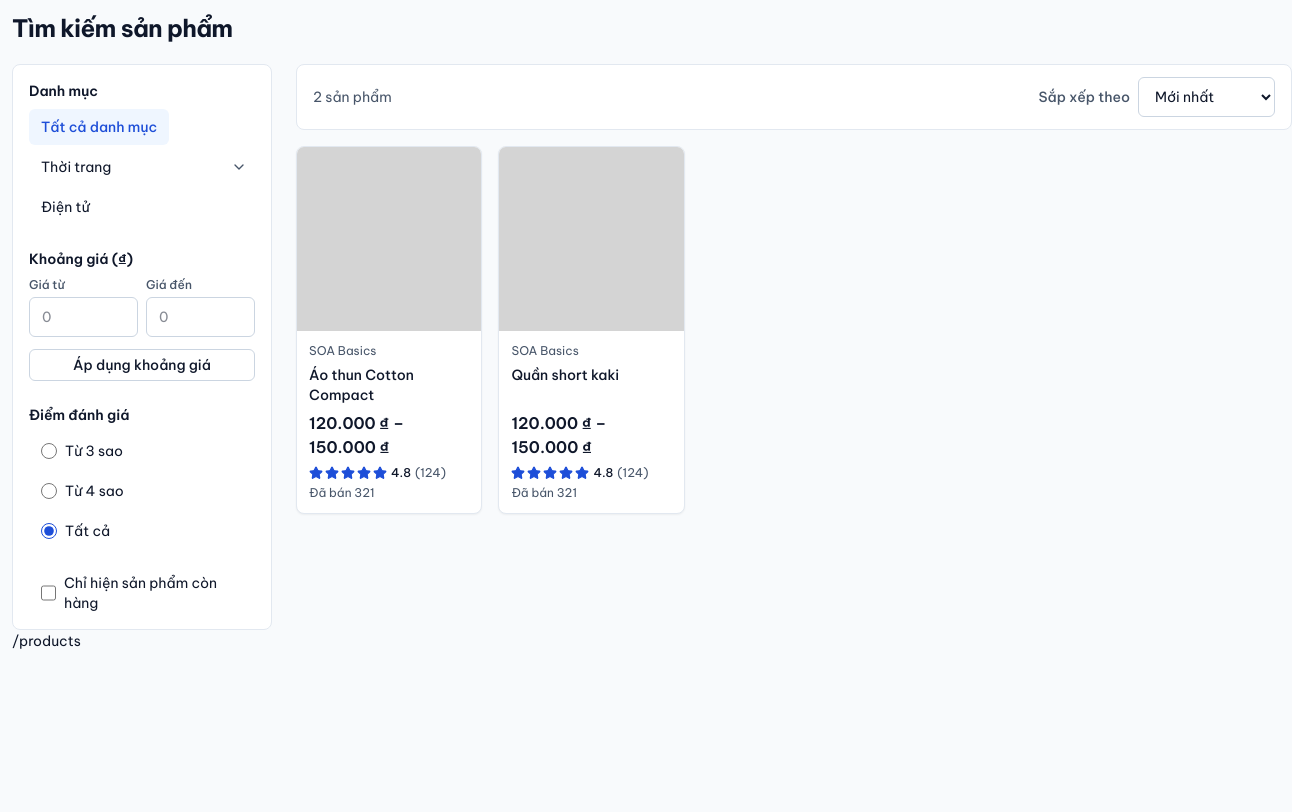
Test: ProductSearchPage (T3-06) › reports an inverted price range in place and sends nothing (D2)
Expected: the heading "Áo thun Cotton Compact" is shown, [309,366,414,404]
Step 1. Type "500000" into the field labelled "Giá từ" → (84, 317), box [29,297,138,337]
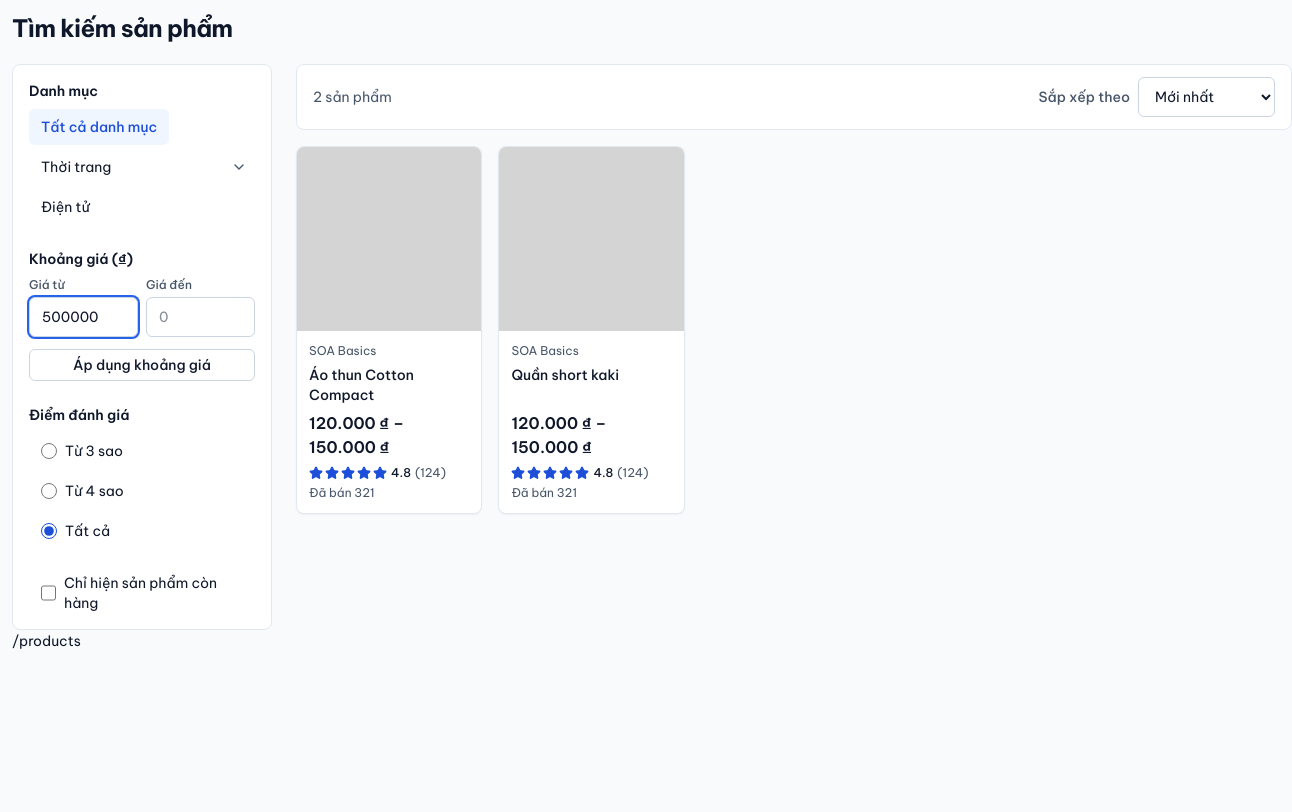
Step 2. Type "100000" into the field labelled "Giá đến" → (200, 317), box [146,297,255,337]
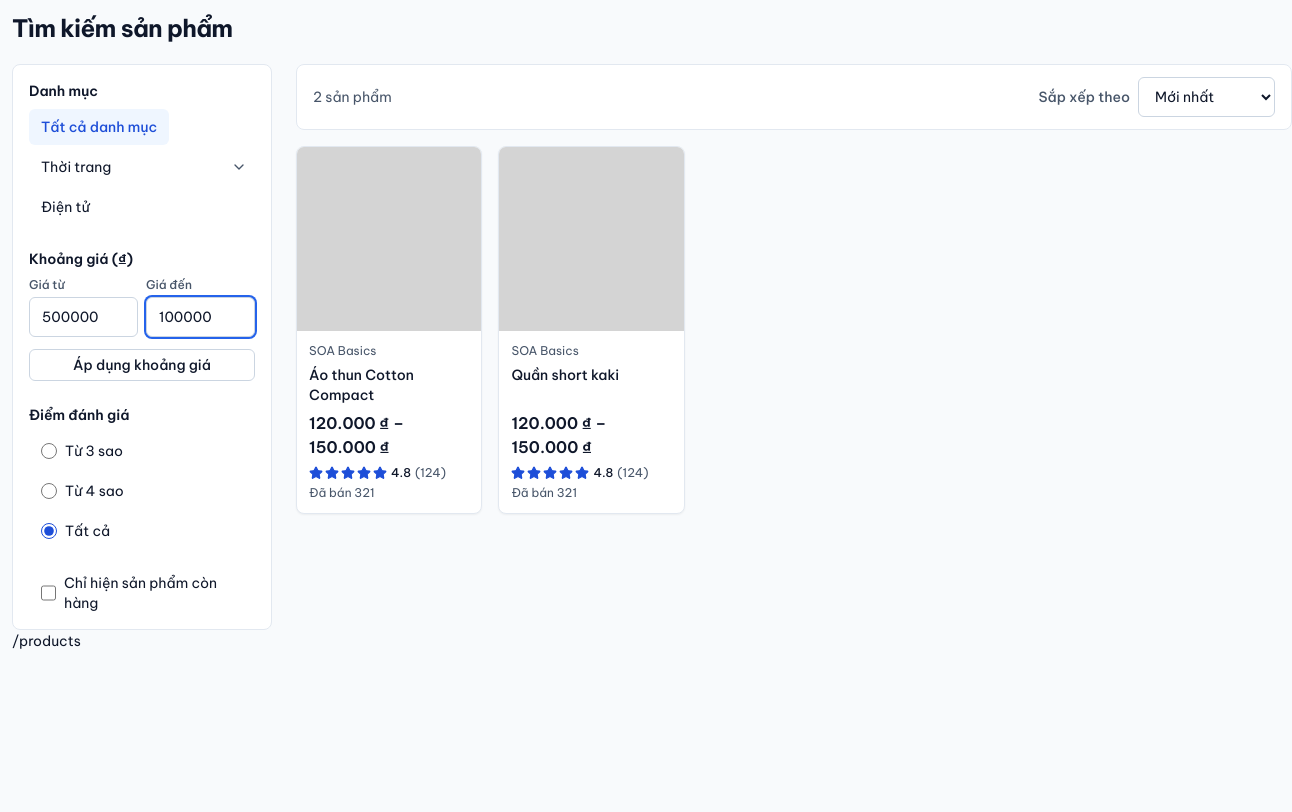
Step 3. Click the button "Áp dụng khoảng giá" → (142, 365), box [29,349,255,381]
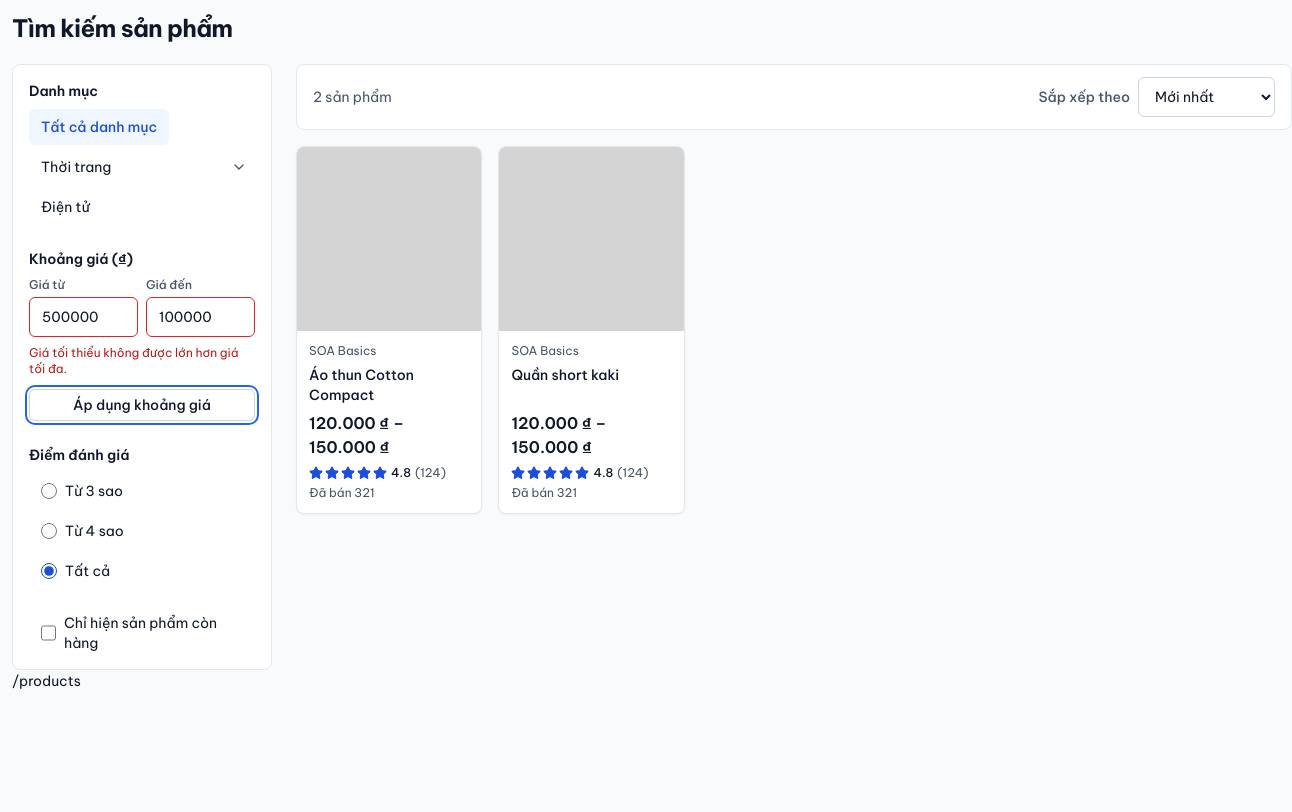
Expected: the text with test id "location" reads "/products", [12,672,81,690]
Result: the message reads "Giá tối thiểu không được lớn hơn giá tối đa." at [29,345,239,376]
